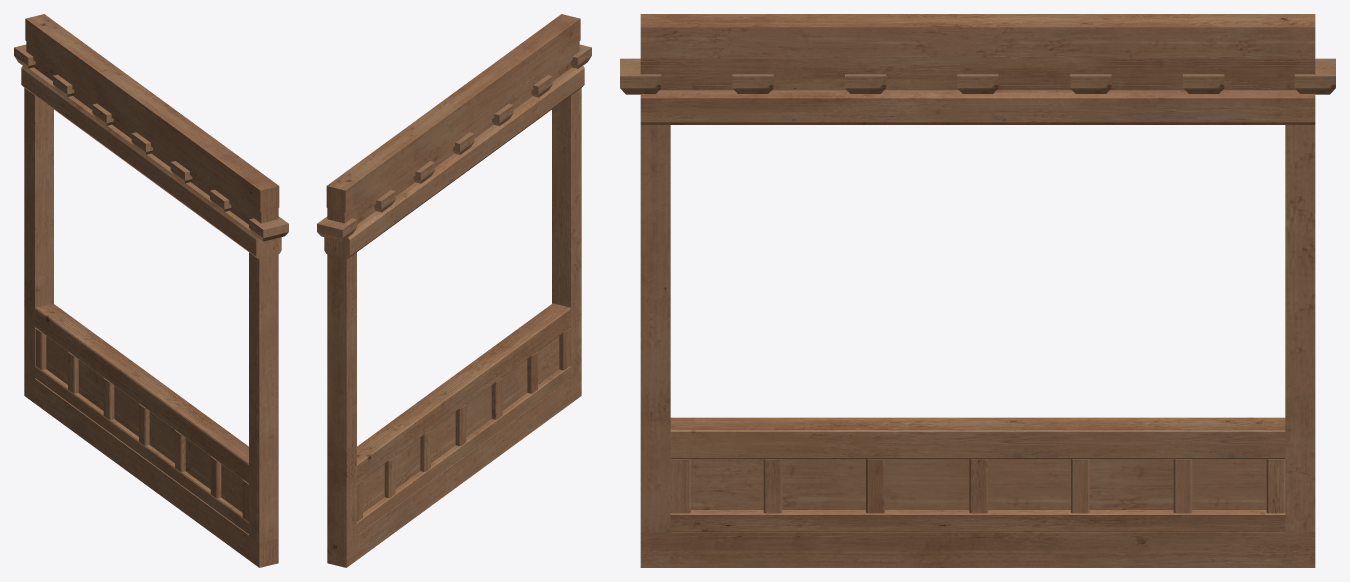
Rendered from SM_JSH_WoodframeC.fbx.
The picture shows the model from 3 angles, left to right: view 1: azimuth 30°, elevation 25°; view 2: azimuth 150°, elevation 25°; view 3: azimuth 270°, elevation 25°; orthographic projection. The views are drawn at different scales.
Visible parts, largest first — view 1: SM_JSH_WoodframeC; view 2: SM_JSH_WoodframeC; view 3: SM_JSH_WoodframeC.
Part boxes in pixels (<box>): SM_JSH_WoodframeC: <box>14,14,288,567</box>; SM_JSH_WoodframeC: <box>317,14,591,567</box>; SM_JSH_WoodframeC: <box>620,14,1335,567</box>.
Bounding box in the file's own units: 15.77 × 267 × 223.
Materials: 1 (1 with a texture image).
